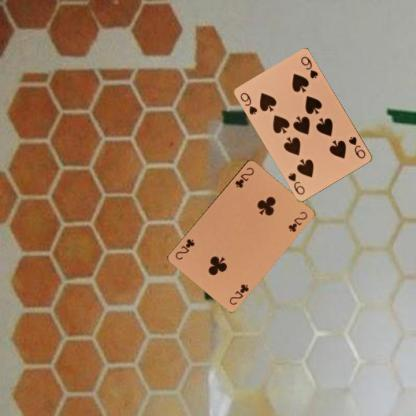2c: (233, 164, 256, 189), (227, 281, 250, 306)
9s: (238, 90, 259, 117), (346, 134, 367, 160)
